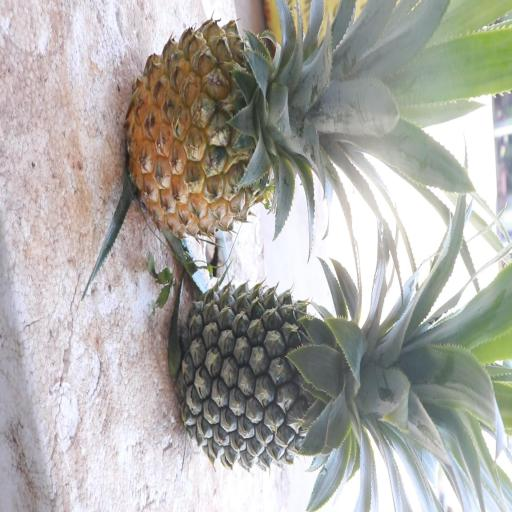Pineapple - v8 v1: (127, 21, 434, 241)
